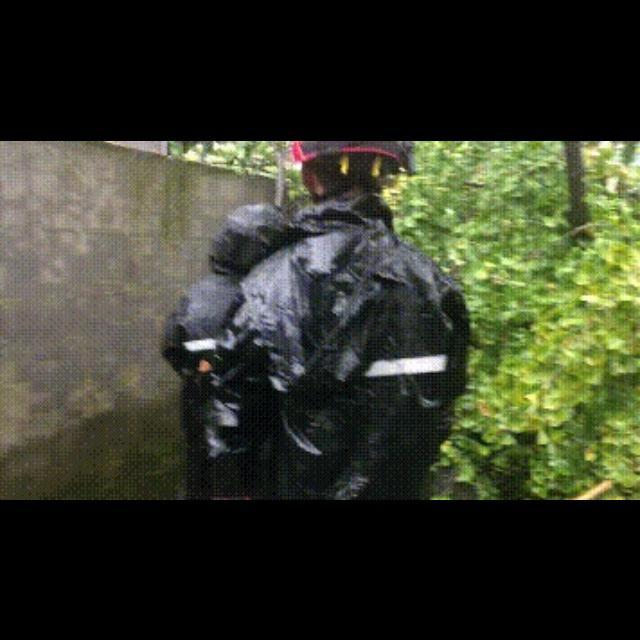fallen_tree: (386, 141, 640, 495)
